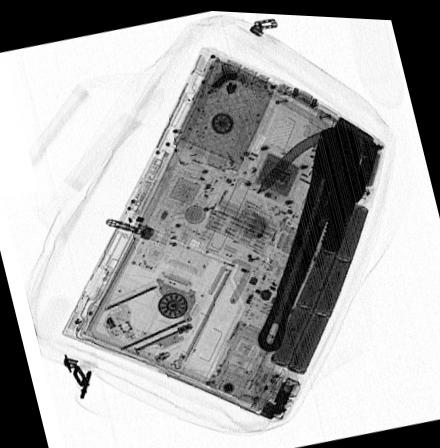Wrench: (256, 121, 368, 351)
